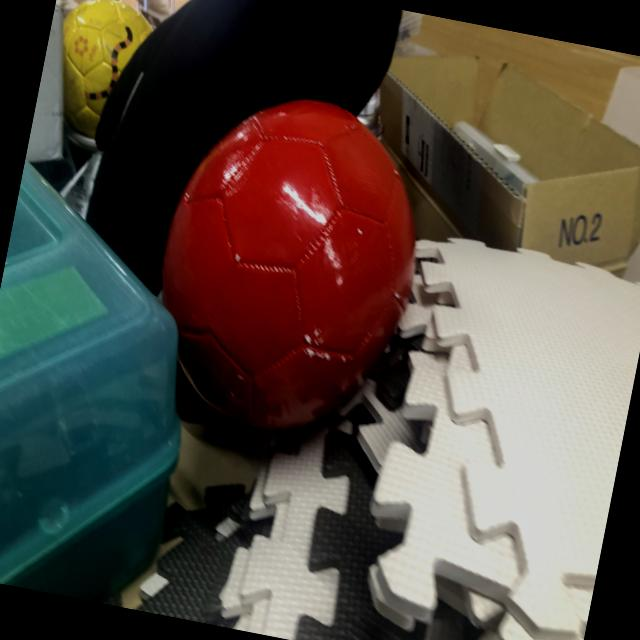red_ball: (132, 78, 442, 460)
